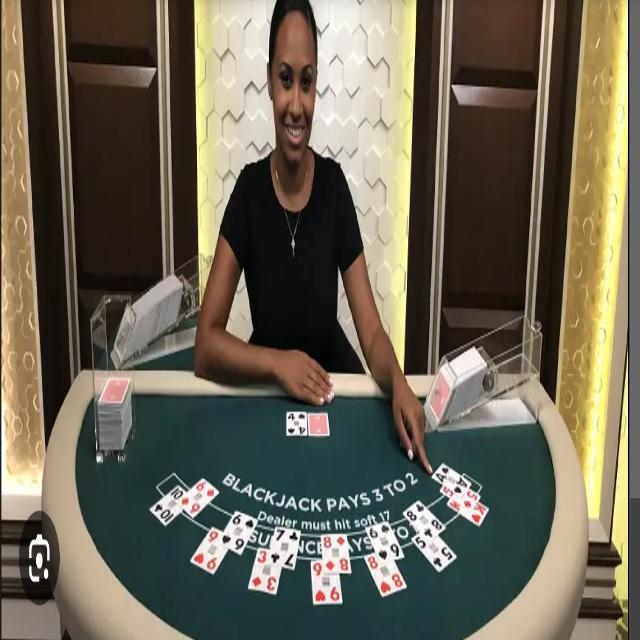Card-10: (149, 484, 187, 526)
Card-3: (248, 547, 281, 594)
Card-4: (286, 410, 307, 435)
Card-5: (411, 533, 457, 573), (439, 484, 480, 510)
Card-6: (219, 509, 257, 555), (178, 478, 219, 517), (365, 522, 404, 562)
Card-7: (268, 526, 301, 569)
Card-8: (363, 552, 406, 596), (403, 500, 446, 543), (321, 535, 351, 572)
Card-9: (190, 526, 228, 575), (310, 560, 342, 603)
Card-A: (431, 461, 471, 496)
Card-K: (446, 498, 488, 526)
